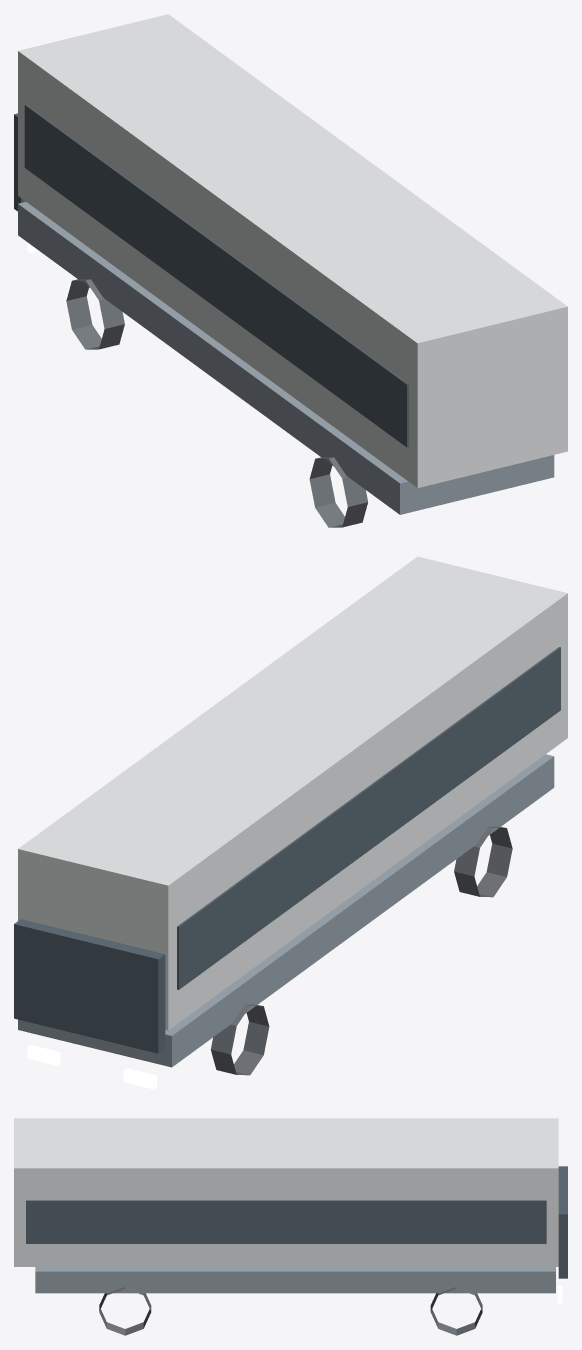
The model's file is city_bus.glb.
3 renders of one model, top to bottom at view 1: azimuth 30°, elevation 25°; view 2: azimuth 150°, elevation 25°; view 3: azimuth 270°, elevation 25°, orthographic. The views are drawn at different scales.
Visible parts, largest first — view 1: city_bus_bus_white, city_bus_glass_dark, city_bus_steel_blue, city_bus_dark_metal; view 2: city_bus_bus_white, city_bus_glass_dark, city_bus_steel_blue, city_bus_dark_metal, city_bus_sign_glow; view 3: city_bus_bus_white, city_bus_glass_dark, city_bus_steel_blue, city_bus_dark_metal.
Part boxes in pixels (box(x1,y1,x2,y2)): city_bus_bus_white: box(18, 14, 567, 487); city_bus_glass_dark: box(14, 104, 408, 447); city_bus_steel_blue: box(18, 202, 554, 514); city_bus_dark_metal: box(66, 279, 367, 527); city_bus_bus_white: box(18, 556, 567, 1030); city_bus_glass_dark: box(14, 647, 560, 1053); city_bus_steel_blue: box(18, 754, 554, 1067); city_bus_dark_metal: box(210, 826, 512, 1075); city_bus_sign_glow: box(27, 1045, 156, 1089); city_bus_bus_white: box(14, 1118, 558, 1266); city_bus_glass_dark: box(26, 1166, 567, 1278); city_bus_steel_blue: box(35, 1267, 555, 1293); city_bus_dark_metal: box(99, 1287, 482, 1335).
Bounding box in the file's own units: 2.74 × 3.85 × 11.7.
